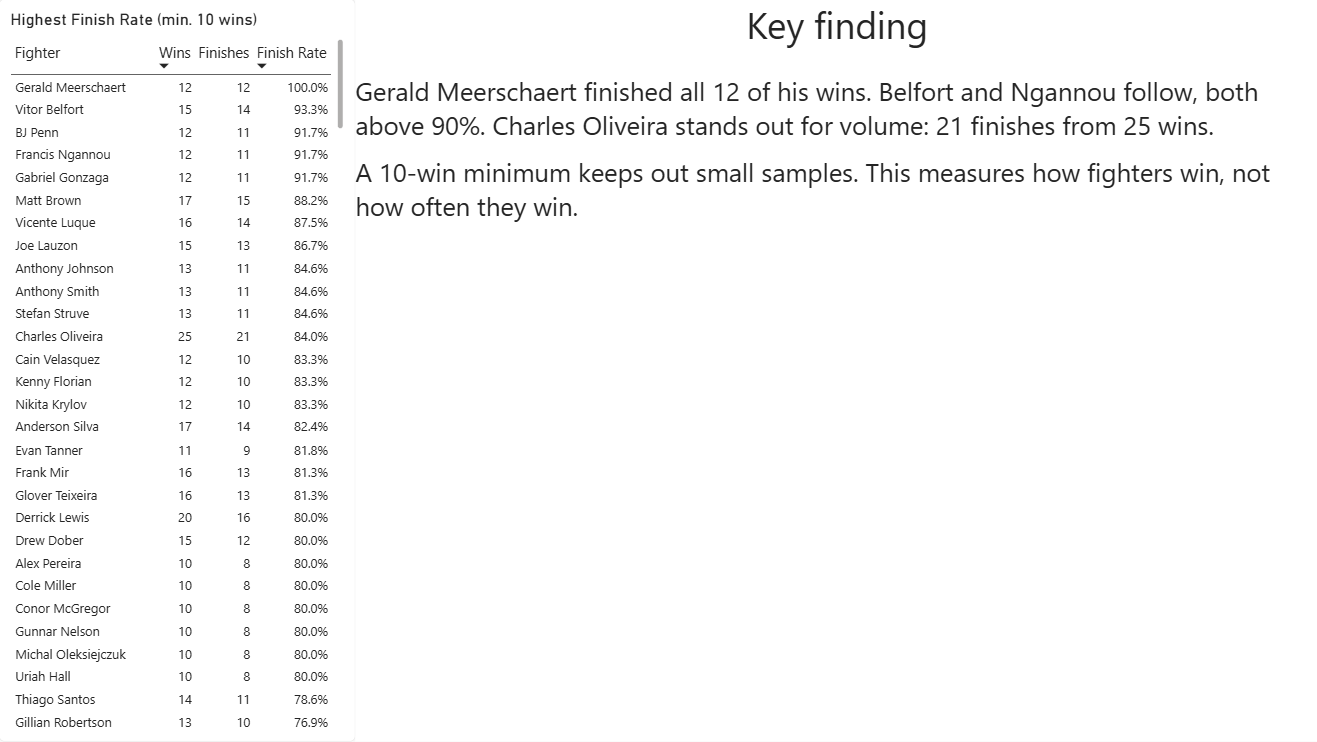

The page's visual inventory and layout, read from the dashboard file:
{"tool":"powerbi","page":{"name":"Finishers","canvas":[1920,1080],"ordinal":3},"visuals":[{"type":"tableEx","title":"Highest Finish Rate (min. 10 wins)","fields":{"Values":["fighter_fights.Fighter","fighter_fights.Wins","fighter_fights.Finishes","fighter_fights.Finish Rate"]},"box":[0,0,518.2,1080],"z":0},{"type":"textbox","box":[518.2,0,1401.8,1080],"z":1000}]}

Visuals, with their boxes in screenshot pixels (x1, y1, x2, y2), scaled from the page's 1920x1080 canvas onto the 1317x742 screenshot:
"Highest Finish Rate (min. 10 wins)" tableEx: x1=0 y1=0 x2=355 y2=741
textbox: x1=355 y1=0 x2=1316 y2=741
